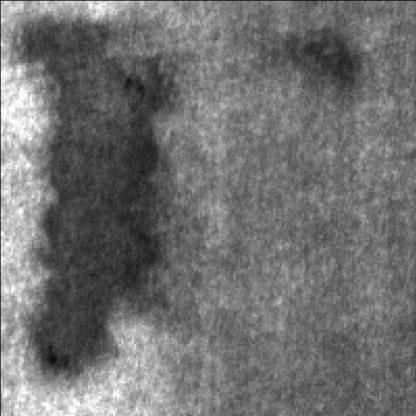patches: (15, 23, 181, 383), (302, 37, 364, 96)
